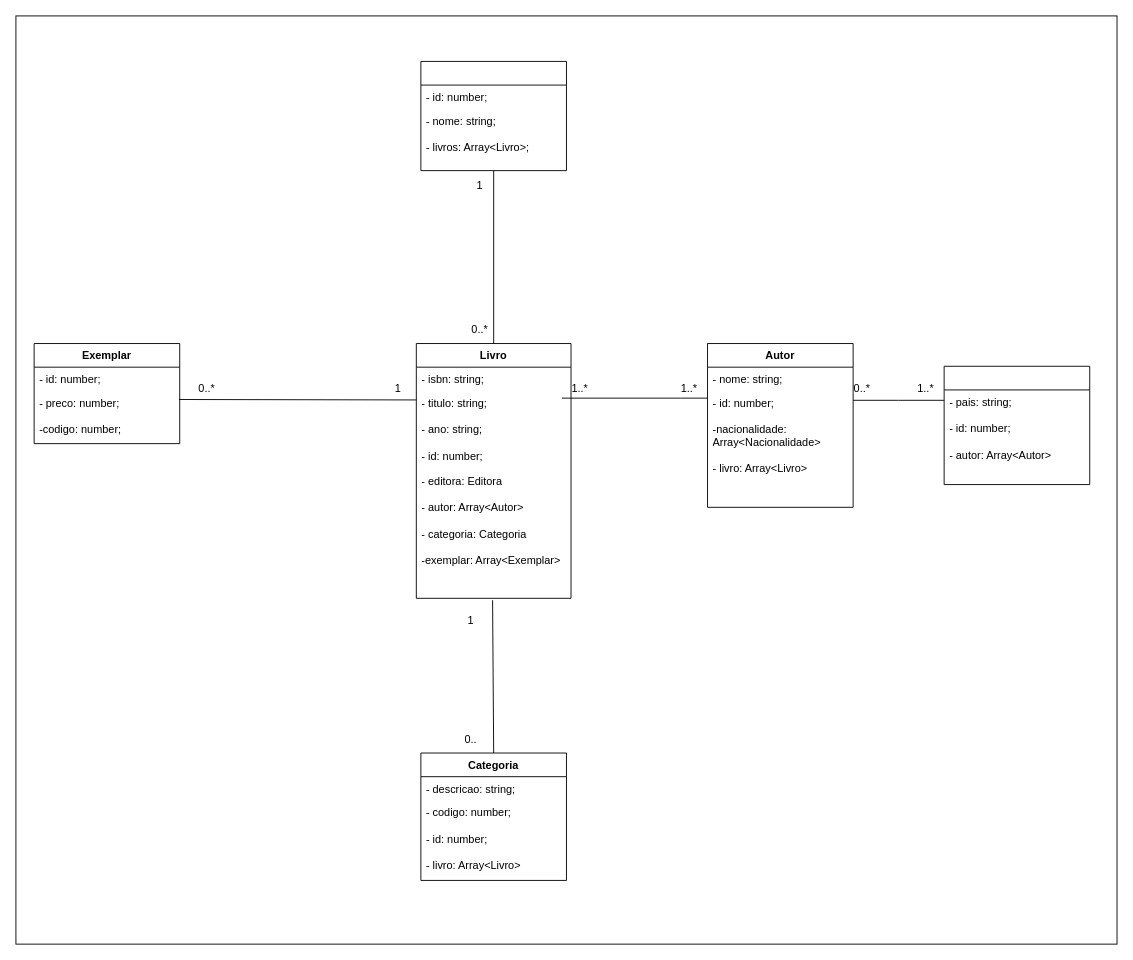
Some shapes in this 1133 by 960 pixel diagram are drawn without their labels. The box of each missing label's shape, as (x1, y1, x2, y2) in pixels:
Editora: (420, 61, 566, 171)
Nacionalidade: (943, 365, 1090, 485)
